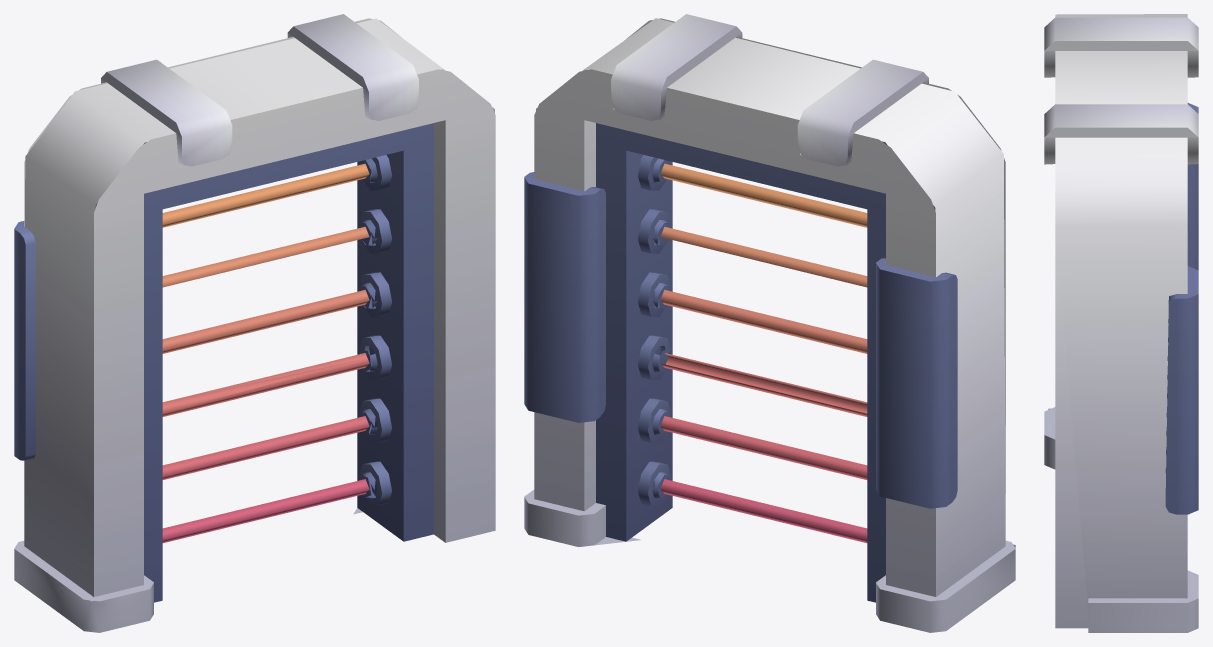
The model's file is lasergate.glb.
3 renders of one model, left to right at view 1: azimuth 30°, elevation 25°; view 2: azimuth 150°, elevation 25°; view 3: azimuth 270°, elevation 25°, orthographic. The views are drawn at different scales.
Parts seen in each view (by area): view 1: lasergate; view 2: lasergate; view 3: lasergate.
Part boxes in pixels (<box>): lasergate: <box>14,14,495,632</box>; lasergate: <box>524,14,1015,632</box>; lasergate: <box>1044,14,1198,632</box>.
Size of the model in its own units: 2.6 by 2.86 by 0.8667.
1 material, 1 textured.
